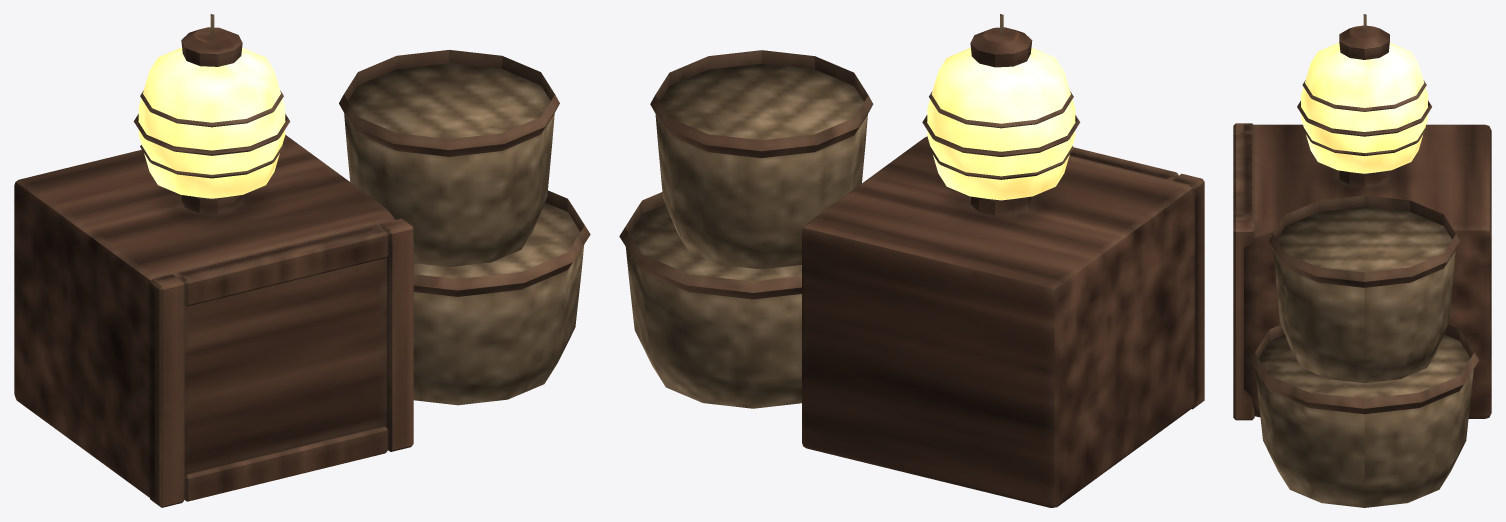
File: StiltVillage_Prop_C.fbx
3 renders of one model, left to right at view 1: azimuth 30°, elevation 25°; view 2: azimuth 150°, elevation 25°; view 3: azimuth 270°, elevation 25°, orthographic. The views are drawn at different scales.
Parts seen in each view (by area): view 1: StiltVillage_Prop_C; view 2: StiltVillage_Prop_C; view 3: StiltVillage_Prop_C.
Part boxes in pixels (box(x1,y1,x2,y2)): StiltVillage_Prop_C: box(14, 14, 590, 507); StiltVillage_Prop_C: box(619, 14, 1204, 507); StiltVillage_Prop_C: box(1233, 14, 1491, 507).
Size of the model in its own units: 1.15 by 0.92 by 0.61.
